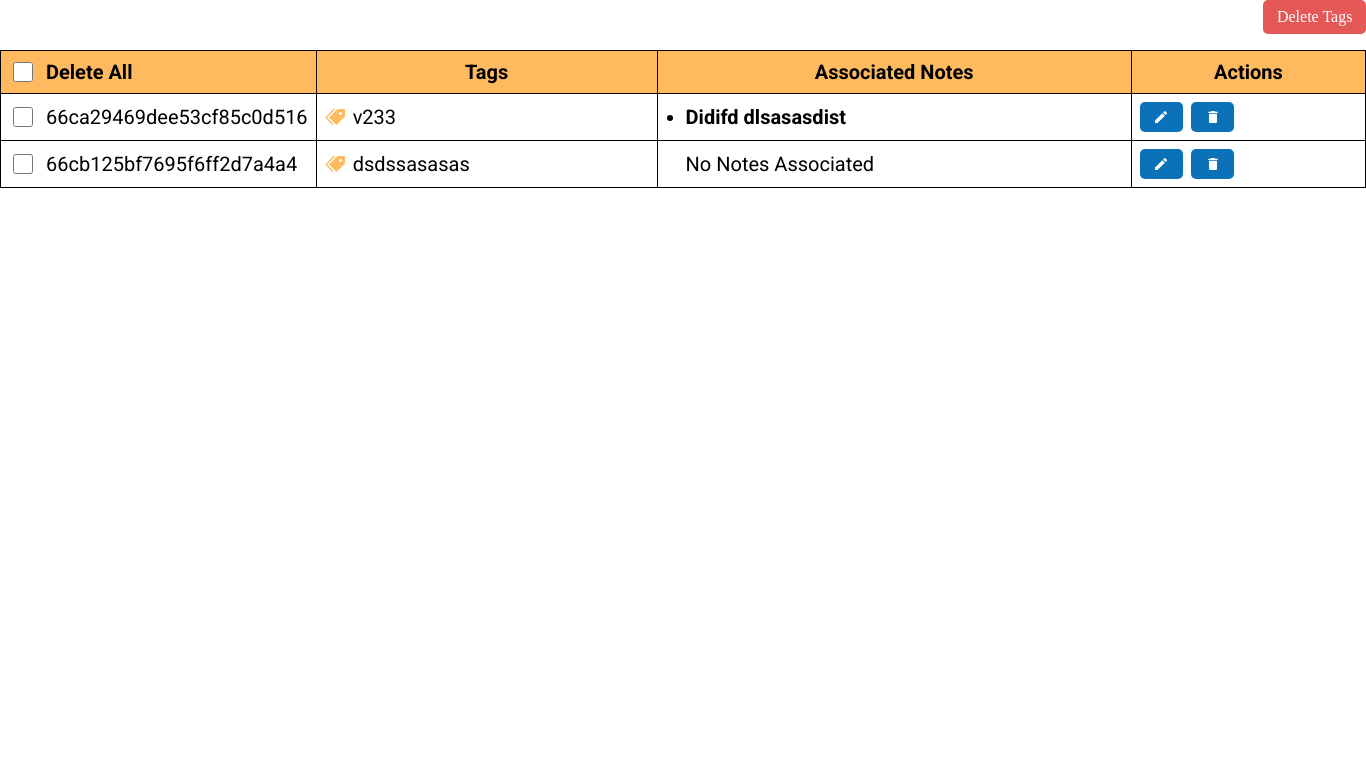
Tags › should edit the tag successfully
Click the button named "Edit Tag-dsdssasasas".
click(1161, 164)  # box [1140, 149, 1183, 179]
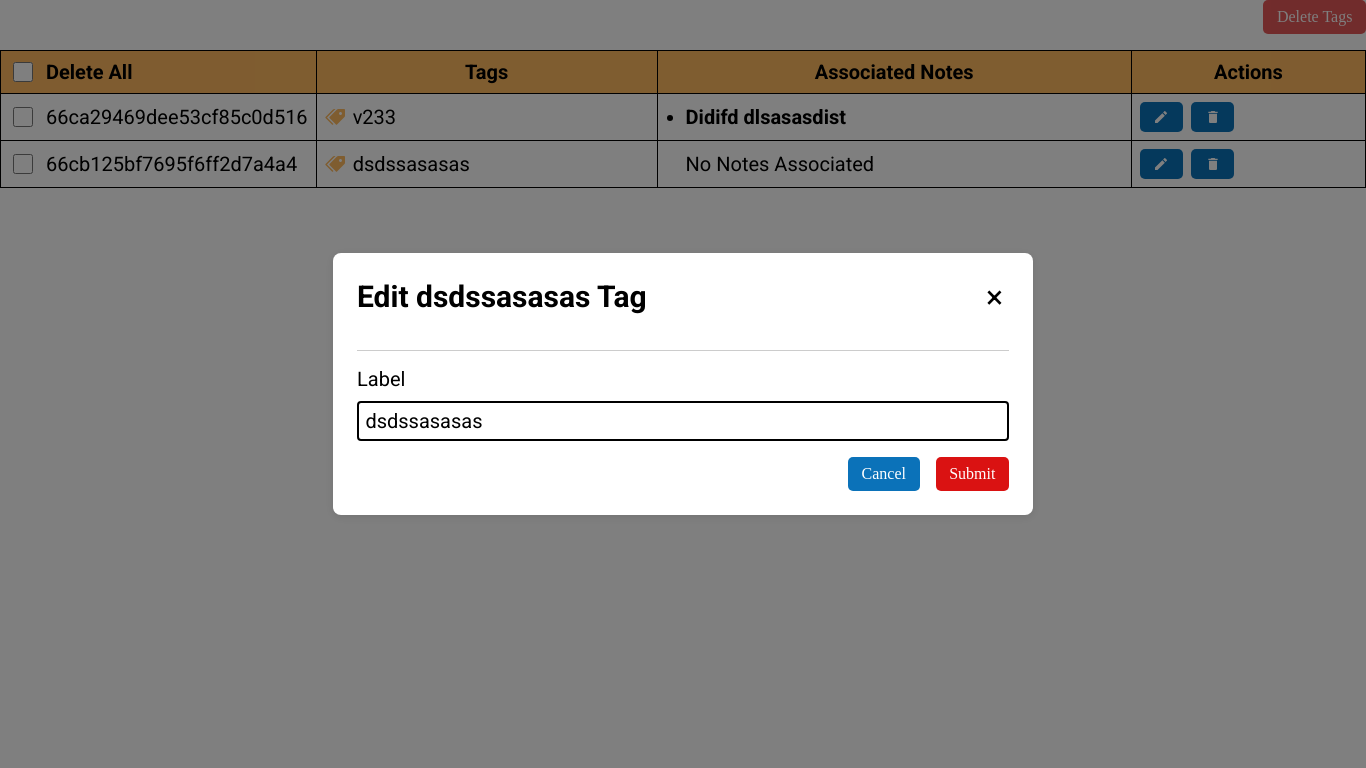
Replace the text in the field labelled "Label" with "TestTag" at (683,421), box [357, 400, 1009, 441]
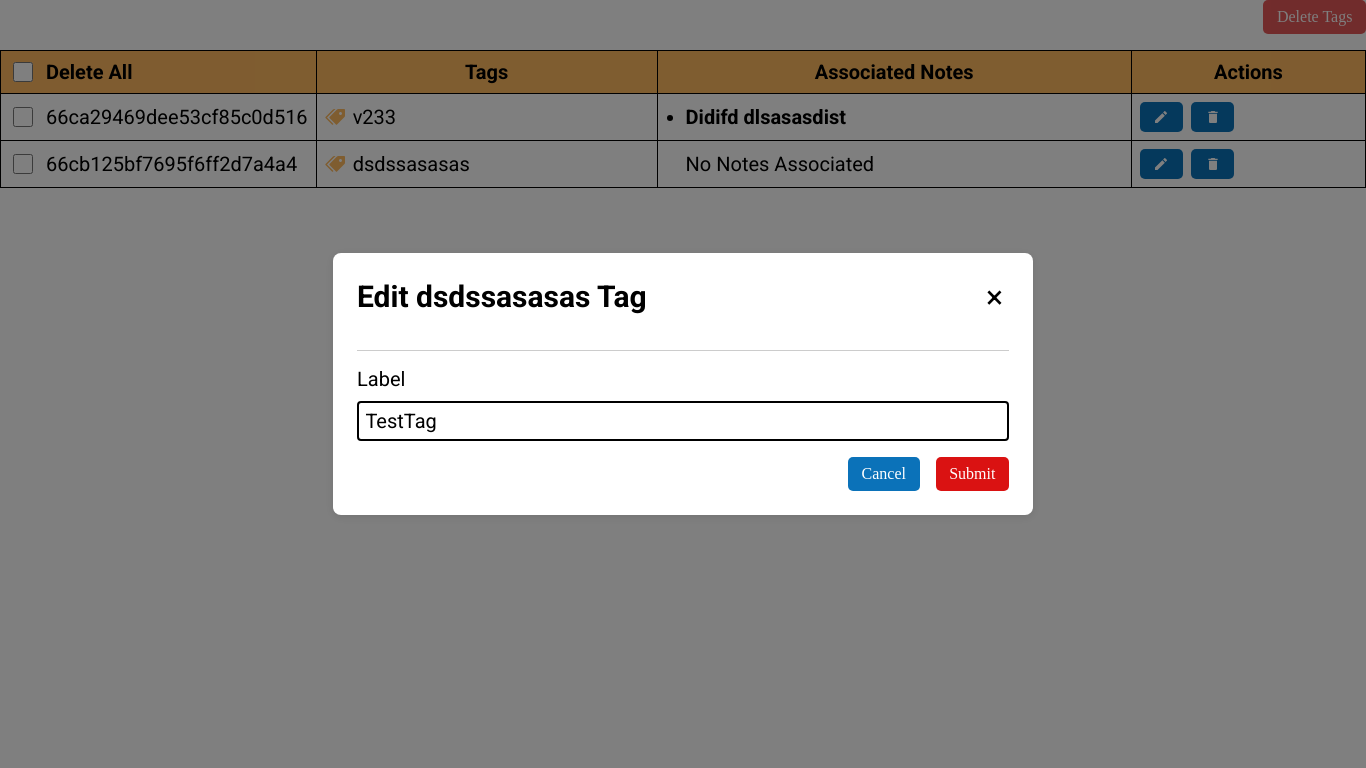
Click the button "Submit".
click(972, 474)  # box [936, 457, 1009, 491]
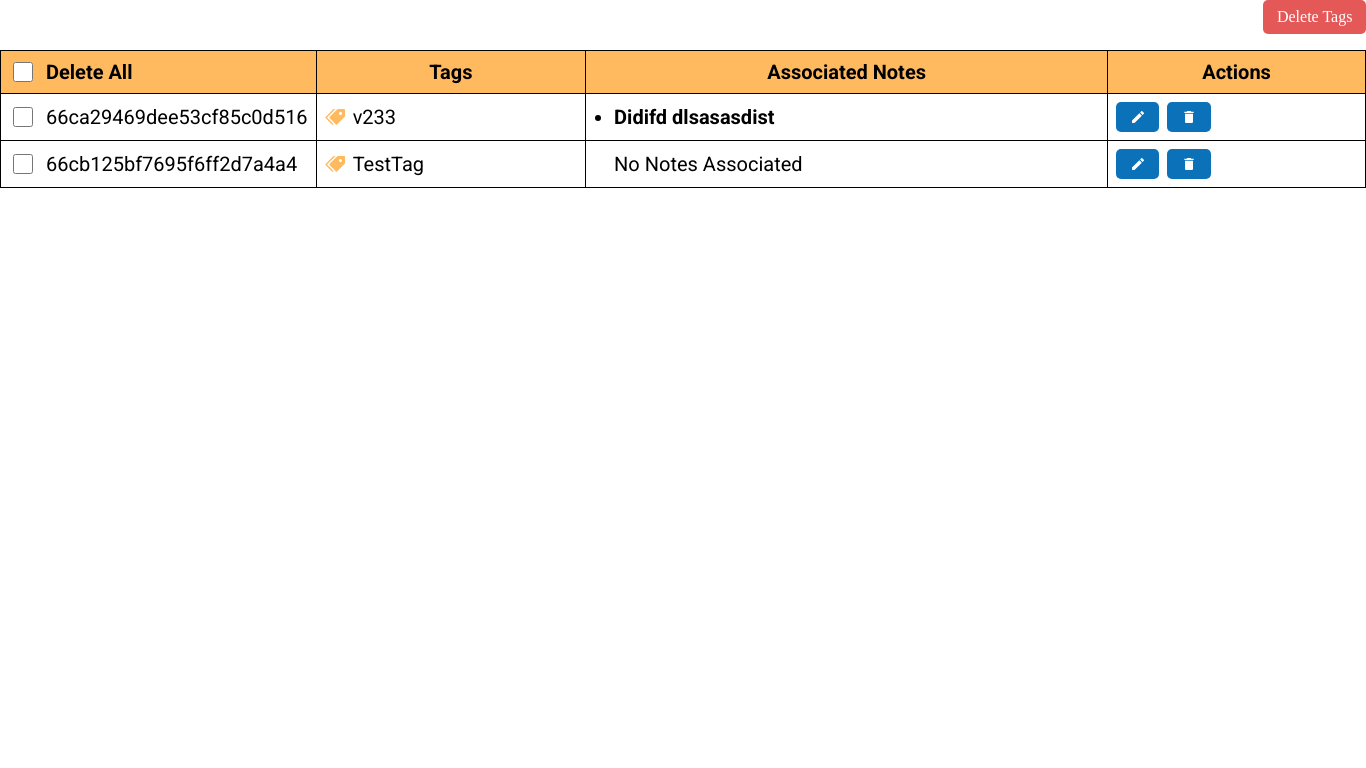
Expected: the text "TestTag" is shown, [325, 152, 424, 176]
